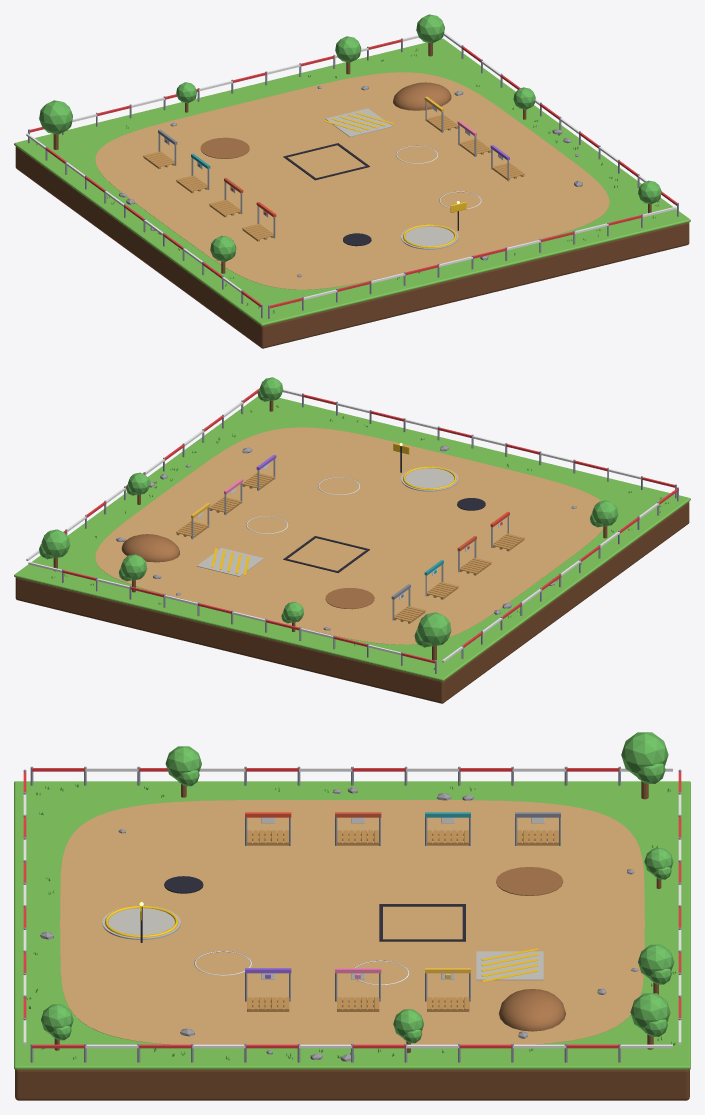
Rendered from lot.71c9b289.glb.
3 renders of one model, top to bottom at view 1: azimuth 30°, elevation 25°; view 2: azimuth 150°, elevation 25°; view 3: azimuth 270°, elevation 25°, orthographic. The views are drawn at different scales.
Visible parts, largest first — view 1: Lot__T_dirt, Lot__T_grass, Lot__T_earth, Lot__T_leaf, Lot__T_white, Lot__T_wood, Lot__T_red, Lot__T_steel, Lot__T_mound, Lot__T_concrete, Lot__T_yellow, Lot__T_dark; view 2: Lot__T_dirt, Lot__T_grass, Lot__T_earth, Lot__T_leaf, Lot__T_white, Lot__T_wood, Lot__T_red, Lot__T_steel, Lot__T_mound, Lot__T_concrete, Lot__T_dark, Lot__T_yellow; view 3: Lot__T_dirt, Lot__T_grass, Lot__T_earth, Lot__T_leaf, Lot__T_white, Lot__T_wood, Lot__T_mound, Lot__T_red, Lot__T_concrete, Lot__T_steel, Lot__T_dark, Lot__T_yellow (+1 smaller).
Part boxes in pixels (x1,y1,x2,y2): Lot__T_dirt: (95,72,609,289); Lot__T_grass: (14,38,690,326); Lot__T_earth: (15,146,689,348); Lot__T_leaf: (39,14,661,261); Lot__T_white: (26,32,676,299); Lot__T_wood: (143,114,524,241); Lot__T_red: (29,39,676,308); Lot__T_steel: (28,38,678,318); Lot__T_mound: (200,82,451,158); Lot__T_concrete: (325,108,458,249); Lot__T_yellow: (324,112,466,247); Lot__T_dark: (283,143,458,246); Lot__T_dirt: (95,427,603,644); Lot__T_grass: (14,396,690,681); Lot__T_earth: (15,501,689,703); Lot__T_leaf: (39,377,618,647); Lot__T_white: (26,389,659,662); Lot__T_wood: (176,472,524,623); Lot__T_red: (62,388,678,663); Lot__T_steel: (62,393,678,673); Lot__T_mound: (121,534,374,609); Lot__T_concrete: (197,466,458,576); Lot__T_dark: (283,446,485,572); Lot__T_yellow: (211,443,456,575); Lot__T_dirt: (60,800,644,1044); Lot__T_grass: (14,781,690,1069); Lot__T_earth: (15,1069,689,1100); Lot__T_leaf: (41,732,674,1043); Lot__T_white: (23,768,681,1048); Lot__T_wood: (247,830,558,1011); Lot__T_mound: (496,867,565,1031); Lot__T_red: (23,768,681,1048); Lot__T_concrete: (102,905,543,980); Lot__T_steel: (23,766,681,1062); Lot__T_dark: (140,876,465,942); Lot__T_yellow: (105,900,538,982).
Size of the model in its own units: 24.08 by 3.92 by 24.08.
